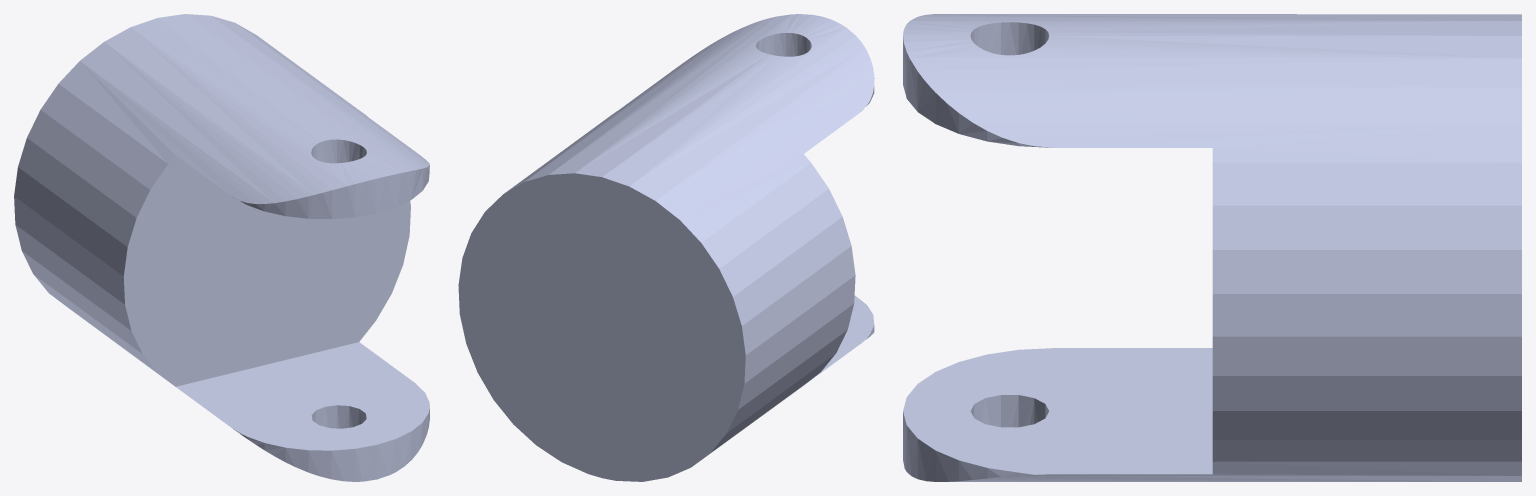
Rendered from ur5e_new_dvrk_rot_ref_visual_vis_1.dae.
3 renders of one model, left to right at view 1: azimuth 30°, elevation 25°; view 2: azimuth 150°, elevation 25°; view 3: azimuth 270°, elevation 25°, orthographic. The views are drawn at different scales.
Parts seen in each view (by area): view 1: Node_0000024FAC4E46A0; view 2: Node_0000024FAC4E46A0; view 3: Node_0000024FAC4E46A0.
Part boxes in pixels (x1,y1,x2,y2): Node_0000024FAC4E46A0: [14, 14, 429, 481]; Node_0000024FAC4E46A0: [458, 14, 874, 481]; Node_0000024FAC4E46A0: [903, 14, 1521, 481].
Size of the model in its own units: 0.00831 by 0.00832 by 0.011.
